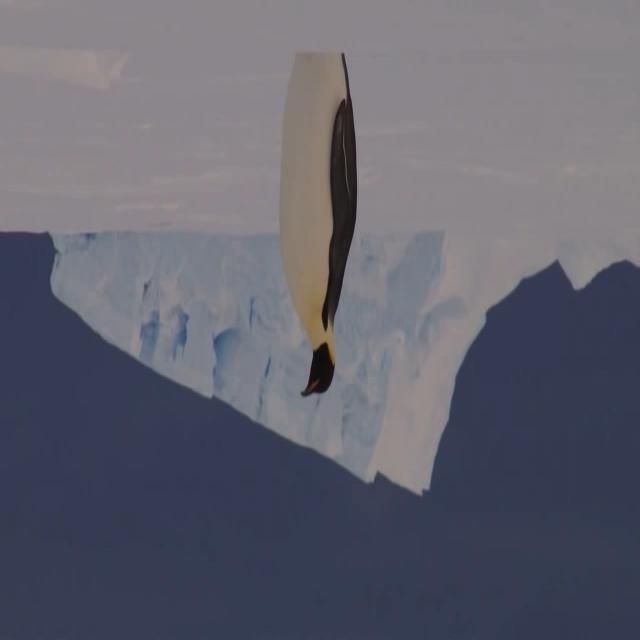penguin: (276, 50, 357, 398)
